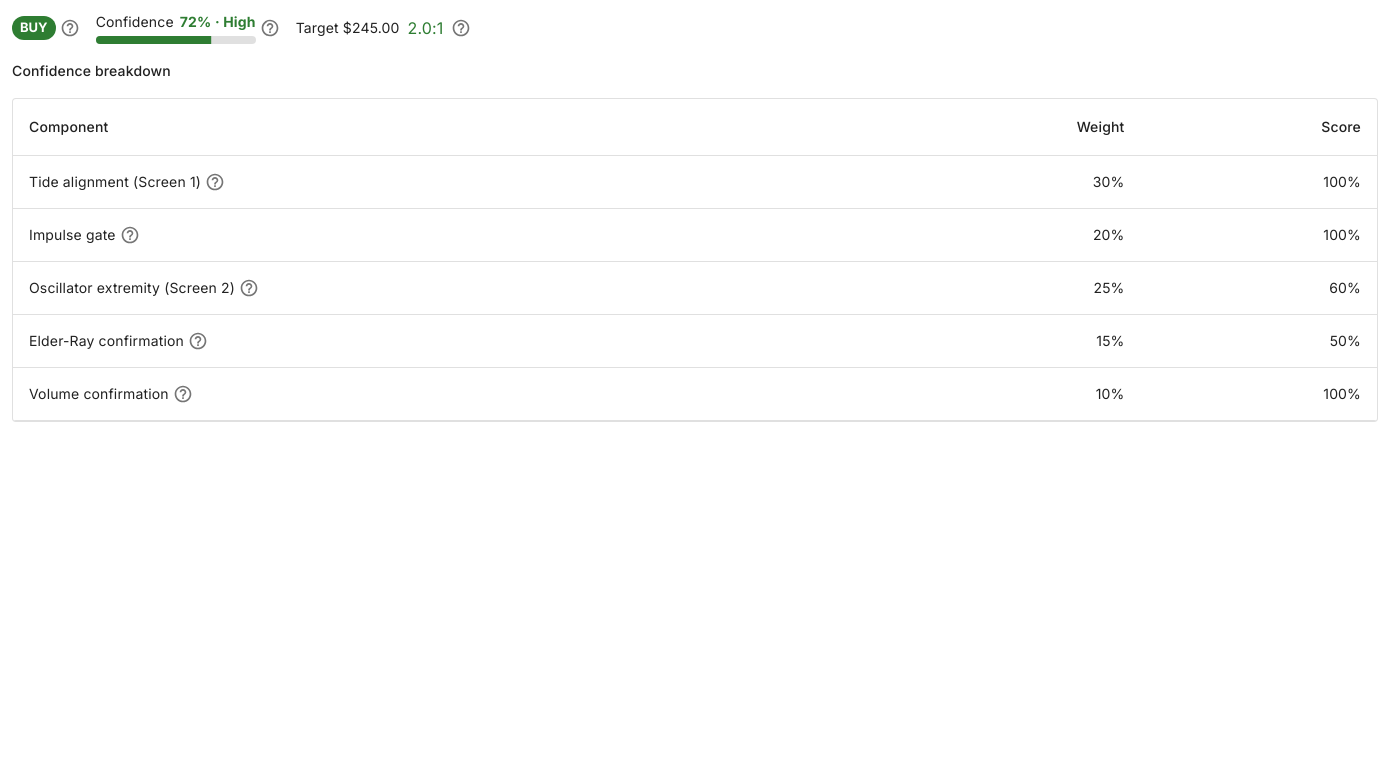
Test: SignalSummary › renders the profit target price and a passing reward:risk badge for a fresh BUY
The width and height of the screenshot is (1378, 780).
Expected: the text "Target $245.00" is shown, [296,18,400,38]
Expected: the text "2.0:1" is shown, [408,16,443,40]
Click the button named "Profit Target help". click: {"x": 462, "y": 28}
box: [452,18,472,38]
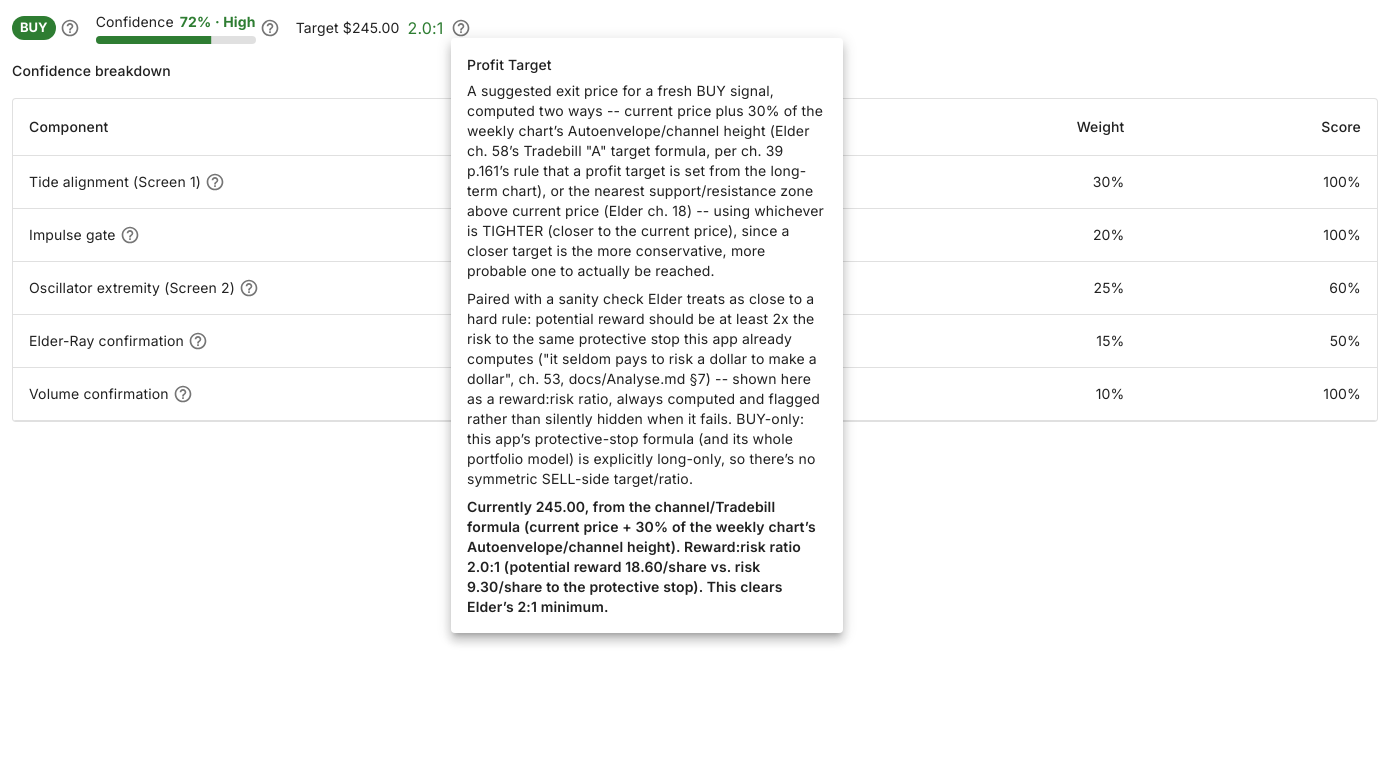
Expected: the text "This clears Elder’s 2:1 minimum." is shown, [467,498,816,615]
